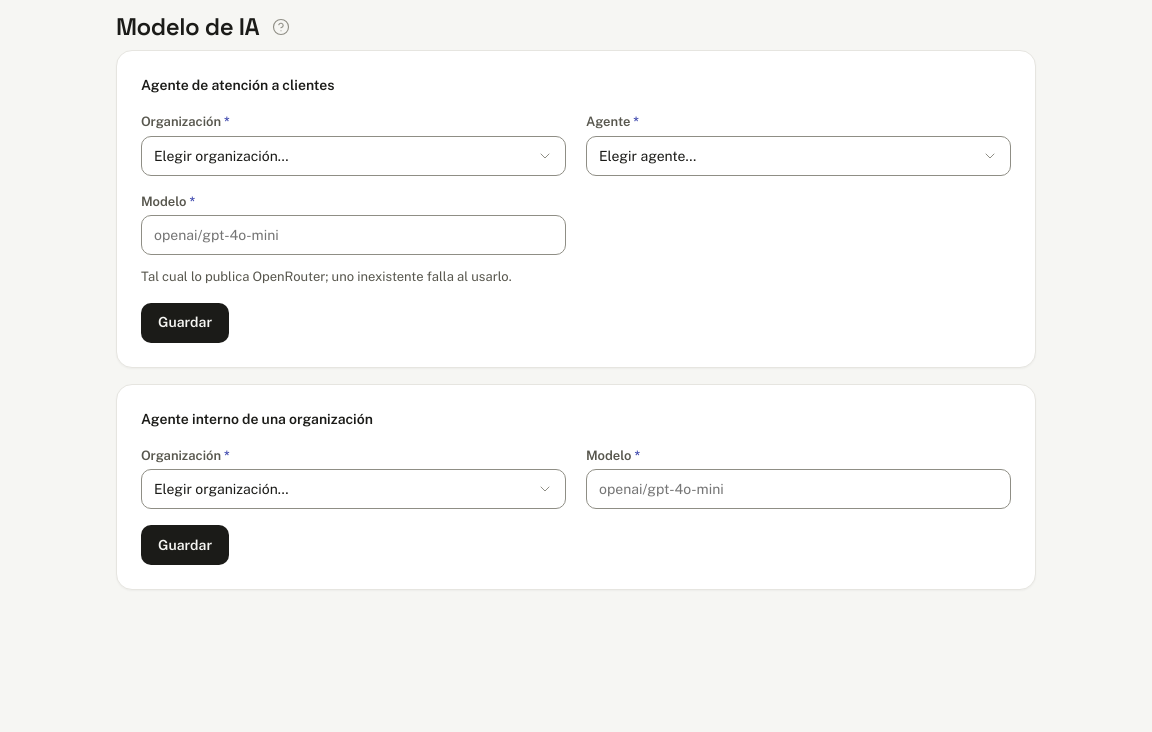
AgentModelPage (B-05) › muestra el error del backend
This screenshot has width=1152, height=732.
Click the dropdown labelled "Organización" below "Agente de atención a clientes" at (354, 156), box [141,136,566,176]
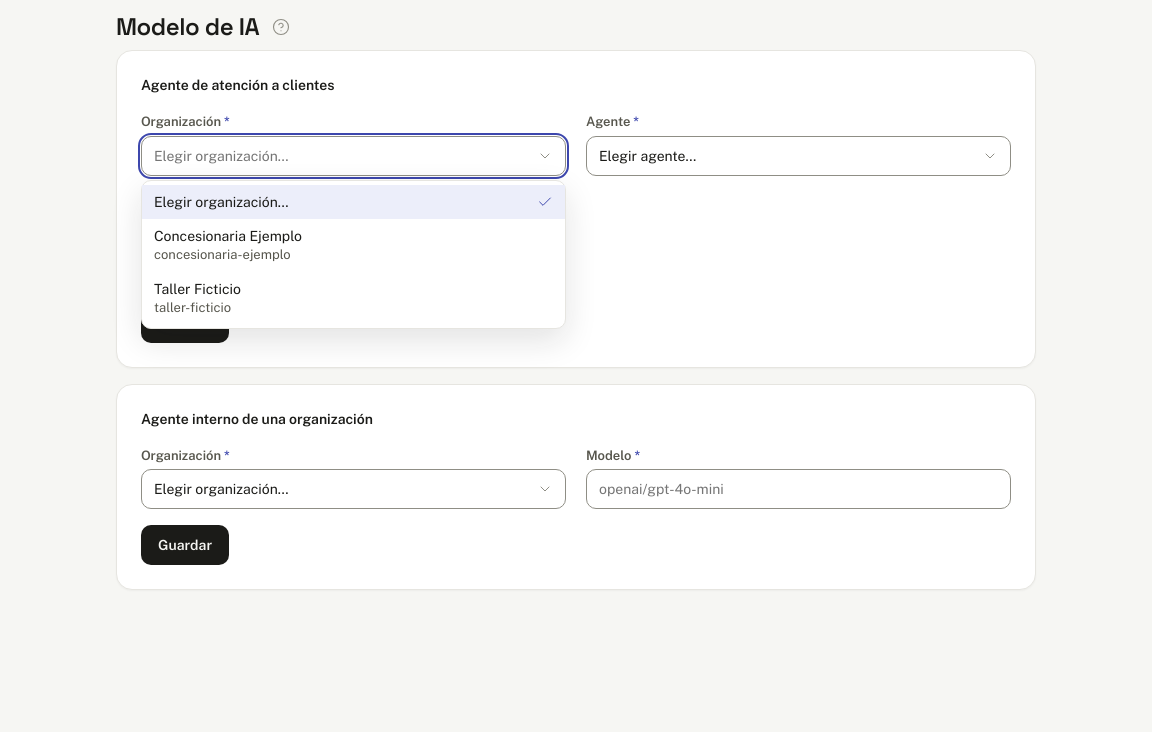
Click the option "Concesionaria Ejemplo" at (228, 245), box [154,228,302,262]
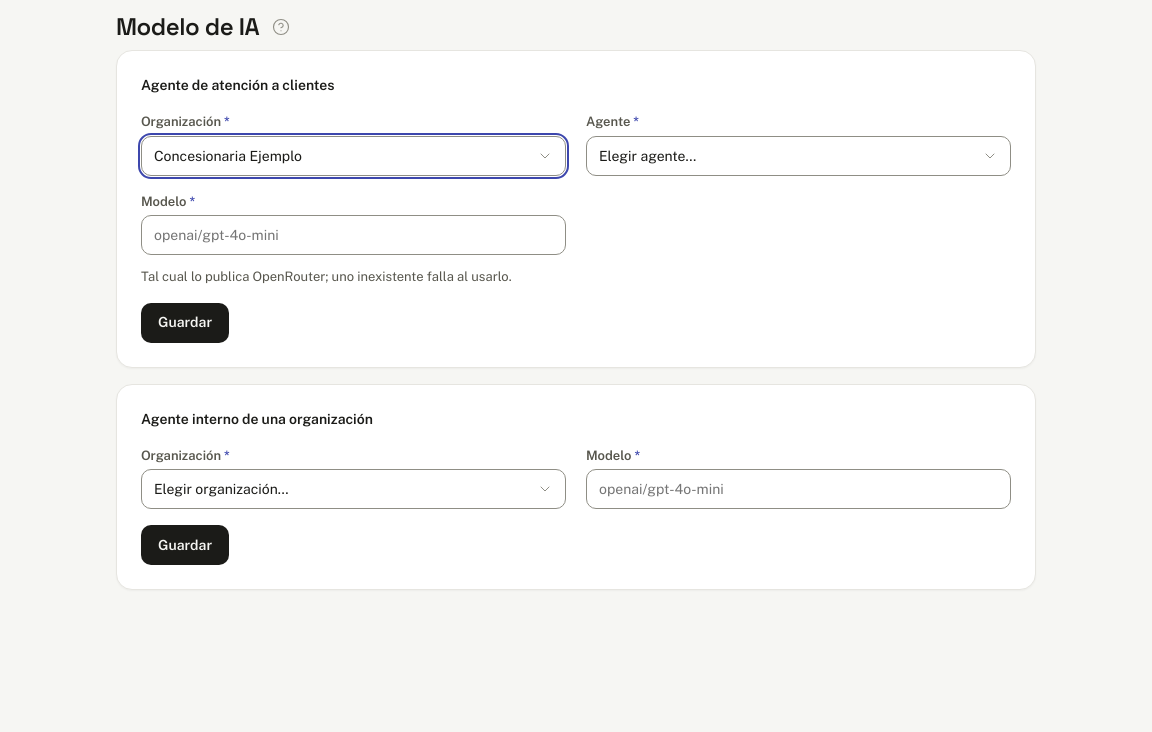
Click the dropdown labelled "Agente" at (798, 156), box [586,136,1011,176]
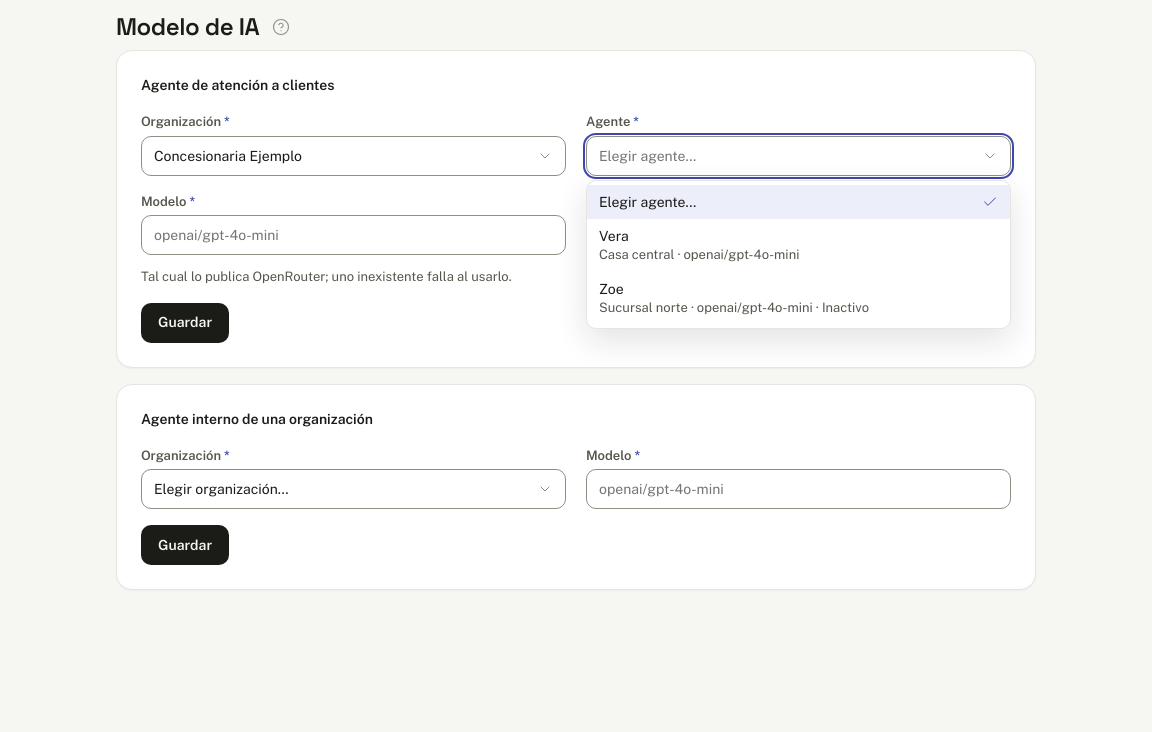
Click the option "Vera Casa central · openai/gpt-4o-mini" at (699, 245), box [599,228,799,262]
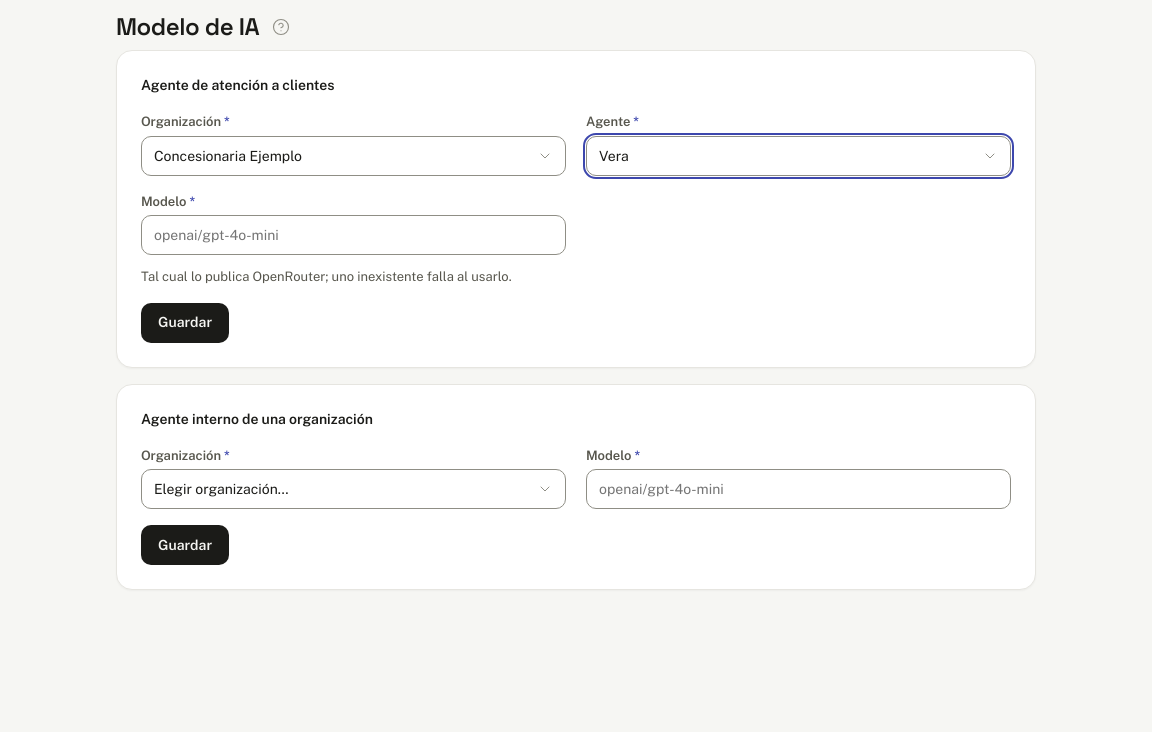
Type "x/y" into the field labelled "Modelo" below "Agente de atención a clientes" at (354, 235), box [141,215,566,255]
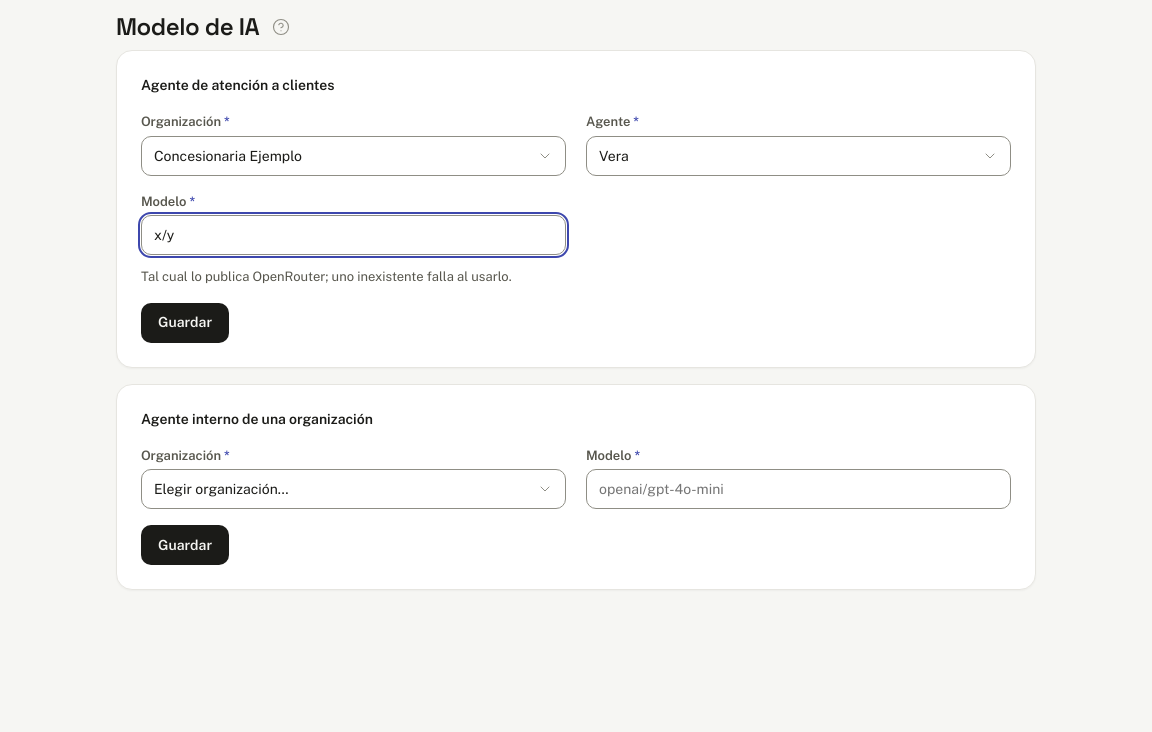
Click the button "Guardar" below "Agente de atención a clientes" at (185, 322), box [141,302,229,342]
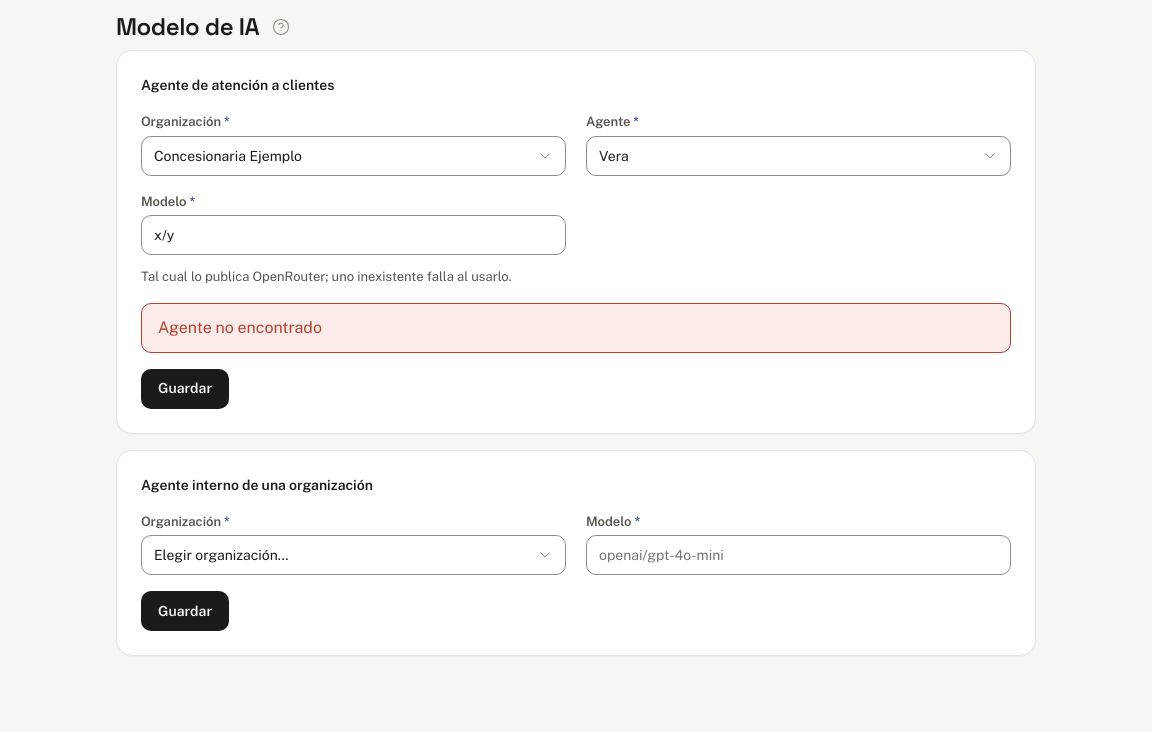
Result: the text "Agente no encontrado" is shown at [141,302,1011,352]
